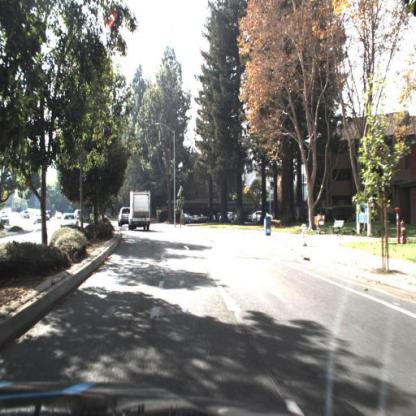car: (55, 212, 80, 230), (117, 203, 132, 230)
truck: (125, 187, 154, 232)
